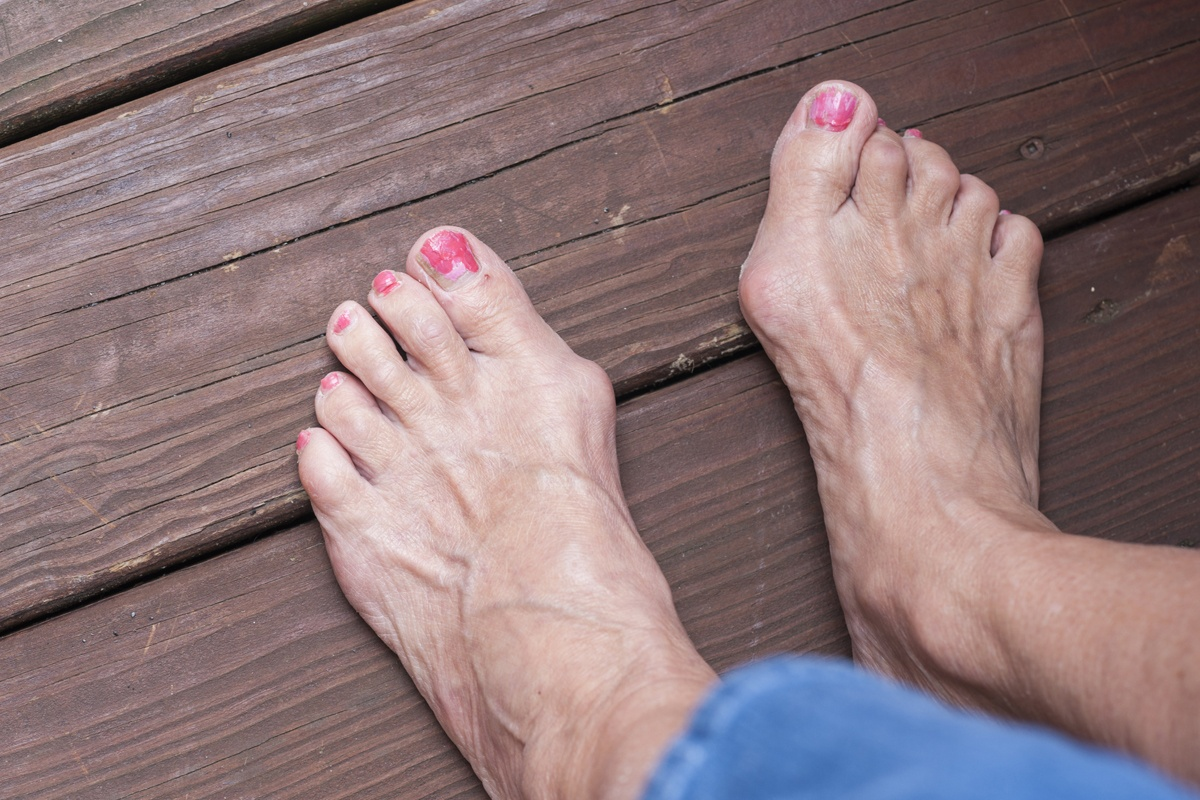feet: (212, 207, 732, 795), (684, 47, 1073, 647)
